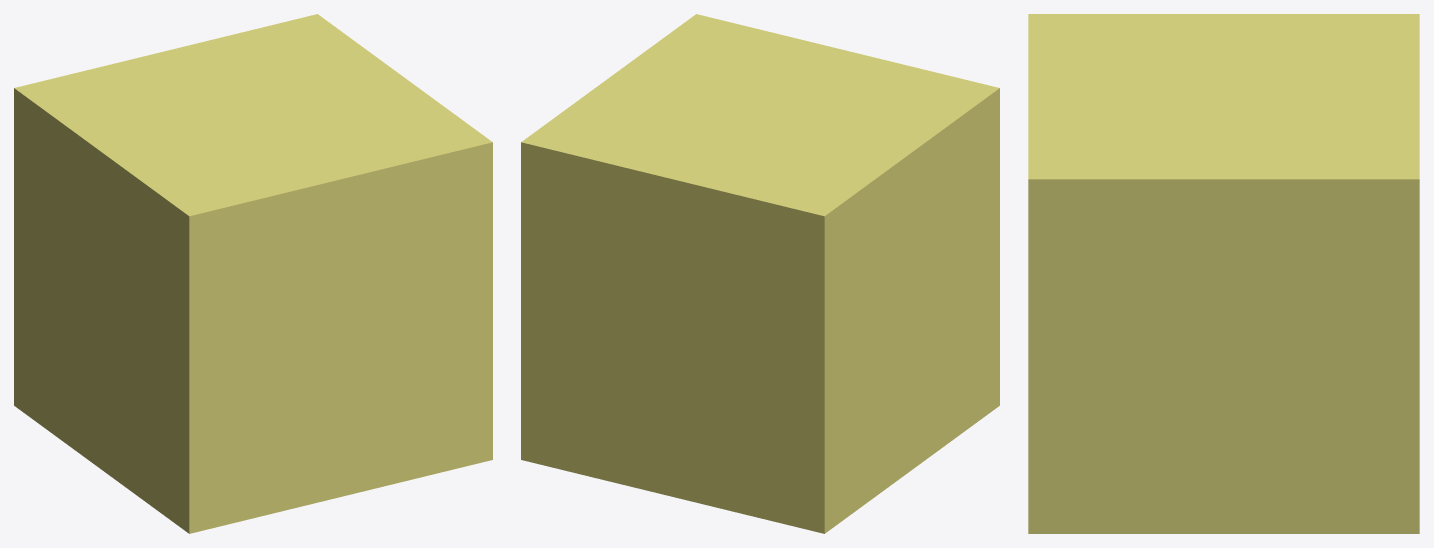
File: Stanza-prova-2.glb
3 renders of one model, left to right at view 1: azimuth 30°, elevation 25°; view 2: azimuth 150°, elevation 25°; view 3: azimuth 270°, elevation 25°, orthographic. The views are drawn at different scales.
Visible parts, largest first — view 1: Cube; view 2: Cube; view 3: Cube.
Part boxes in pixels (x1,y1,x2,y2): Cube: (14, 14, 492, 533); Cube: (521, 14, 999, 533); Cube: (1028, 14, 1419, 533).
Size of the model in its own units: 16.78 by 16.78 by 16.78.
